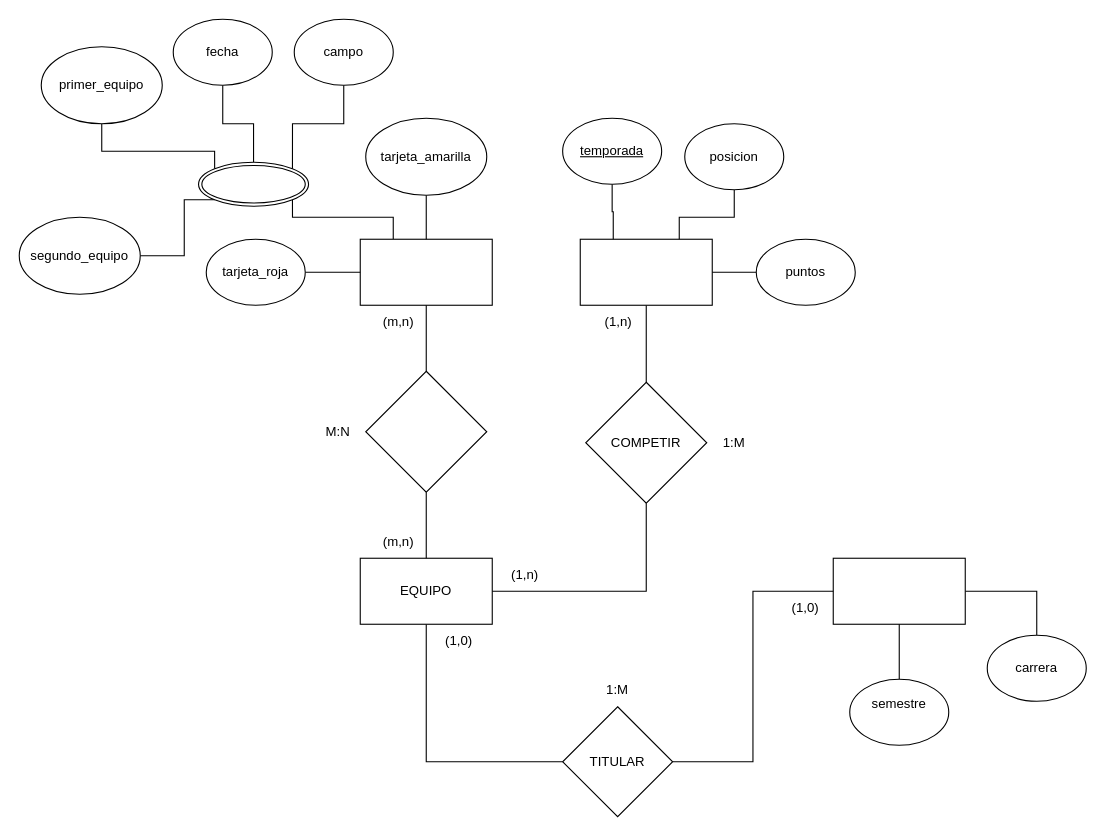
Some shapes in this 1106 by 836 pixel diagram are drawn without their labels. Here are the shapes that lost their labels. From the top down, the box of each, then its label:
(197, 161, 309, 206): evento
(359, 238, 492, 305): PARTIDO
(579, 238, 712, 305): CLASIFICATORIA
(365, 370, 487, 492): DISPUTAR
(832, 557, 965, 624): JUGADOR
